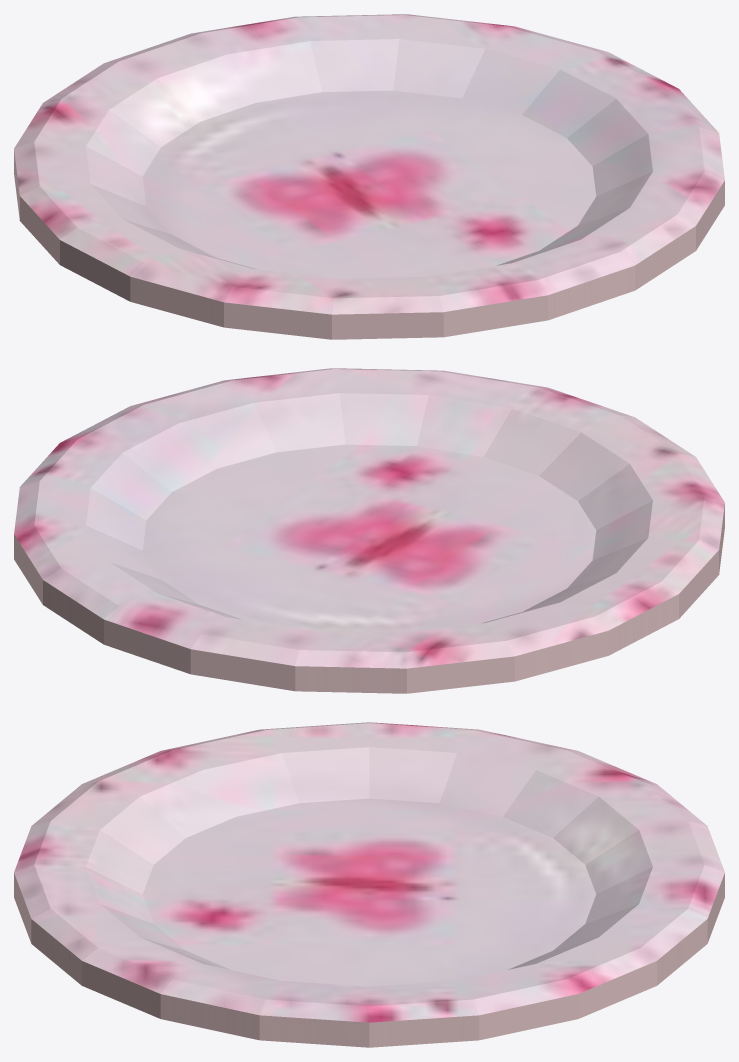
The model's file is tea_plate_model.fbx.
3 renders of one model, top to bottom at view 1: azimuth 30°, elevation 25°; view 2: azimuth 150°, elevation 25°; view 3: azimuth 270°, elevation 25°, orthographic.
Parts seen in each view (by area): view 1: pCylinder19; view 2: pCylinder19; view 3: pCylinder19.
Boxes of the visible parts, <box> form: pCylinder19: <box>14,14,724,339</box>; pCylinder19: <box>14,368,724,693</box>; pCylinder19: <box>14,722,724,1047</box>.
Bounding box in the file's own units: 0.0165 × 0.00172 × 0.0165.
